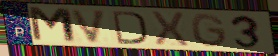3: (229, 13, 267, 51)
D: (111, 10, 149, 46)
G: (189, 12, 229, 49)
M: (26, 5, 80, 45)
V: (69, 8, 110, 45)
X: (149, 10, 191, 47)
